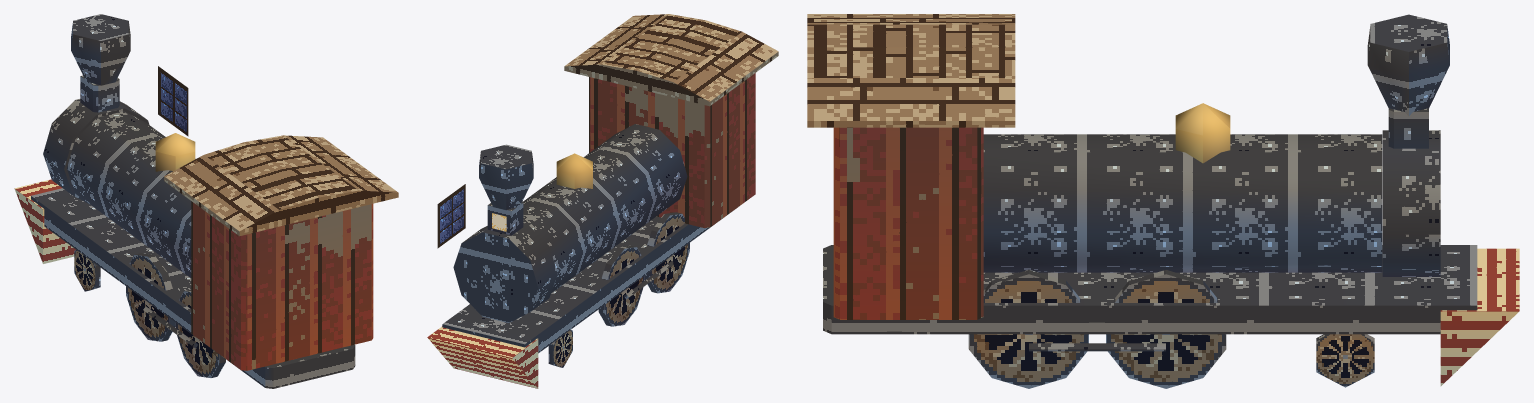
The model's file is wrail.locomotive.glb.
The picture shows the model from 3 angles, left to right: view 1: azimuth 30°, elevation 25°; view 2: azimuth 150°, elevation 25°; view 3: azimuth 270°, elevation 25°; orthographic projection. The views are drawn at different scales.
Parts seen in each view (by area): view 1: kit_cab, kit_cab_roof, kit_boiler, kit_frame, kit_drivers, kit_stack, kit_smokebox, kit_pilot, kit_card_panes, kit_domes, kit_lamp, kit_leaders (+1 smaller); view 2: kit_boiler, kit_cab, kit_cab_roof, kit_frame, kit_smokebox, kit_pilot, kit_drivers, kit_stack, kit_card_panes, kit_domes, kit_lamp, kit_leaders; view 3: kit_boiler, kit_frame, kit_cab, kit_cab_roof, kit_drivers, kit_smokebox, kit_stack, kit_pilot, kit_leaders, kit_domes, kit_lamp, kit_rods.
Part boxes in pixels (left/top/right/bottom): kit_cab: left=191, top=201, right=373, bottom=370; kit_cab_roof: left=164, top=135, right=398, bottom=236; kit_boiler: left=67, top=111, right=195, bottom=277; kit_frame: left=31, top=188, right=355, bottom=388; kit_drivers: left=126, top=253, right=225, bottom=377; kit_stack: left=71, top=14, right=130, bottom=85; kit_smokebox: left=43, top=99, right=149, bottom=203; kit_pilot: left=14, top=179, right=75, bottom=263; kit_card_panes: left=158, top=66, right=188, bottom=136; kit_domes: left=155, top=133, right=195, bottom=171; kit_lamp: left=80, top=75, right=119, bottom=112; kit_leaders: left=74, top=250, right=100, bottom=291; kit_boiler: left=523, top=124, right=687, bottom=293; kit_cab: left=589, top=73, right=755, bottom=228; kit_cab_roof: left=564, top=14, right=778, bottom=106; kit_frame: left=442, top=215, right=726, bottom=353; kit_smokebox: left=453, top=223, right=557, bottom=322; kit_pilot: left=427, top=326, right=538, bottom=388; kit_drivers: left=598, top=212, right=689, bottom=326; kit_stack: left=479, top=144, right=533, bottom=210; kit_card_panes: left=437, top=184, right=465, bottom=248; kit_domes: left=556, top=153, right=592, bottom=188; kit_lamp: left=487, top=201, right=523, bottom=235; kit_leaders: left=548, top=330, right=572, bottom=367; kit_boiler: left=983, top=134, right=1382, bottom=272; kit_frame: left=823, top=245, right=1477, bottom=334; kit_cab: left=833, top=127, right=983, bottom=319; kit_cab_roof: left=807, top=14, right=1015, bottom=127; kit_drivers: left=968, top=270, right=1226, bottom=388; kit_smokebox: left=1382, top=130, right=1440, bottom=276; kit_stack: left=1367, top=14, right=1449, bottom=116; kit_pilot: left=1440, top=248, right=1519, bottom=386; kit_leaders: left=1316, top=334, right=1374, bottom=387; kit_domes: left=1175, top=103, right=1230, bottom=163; kit_lamp: left=1388, top=108, right=1428, bottom=148; kit_rods: left=1029, top=343, right=1165, bottom=351.
Size of the model in its own units: 2.4 by 3.43 by 6.75.
8 materials, 7 textured.
